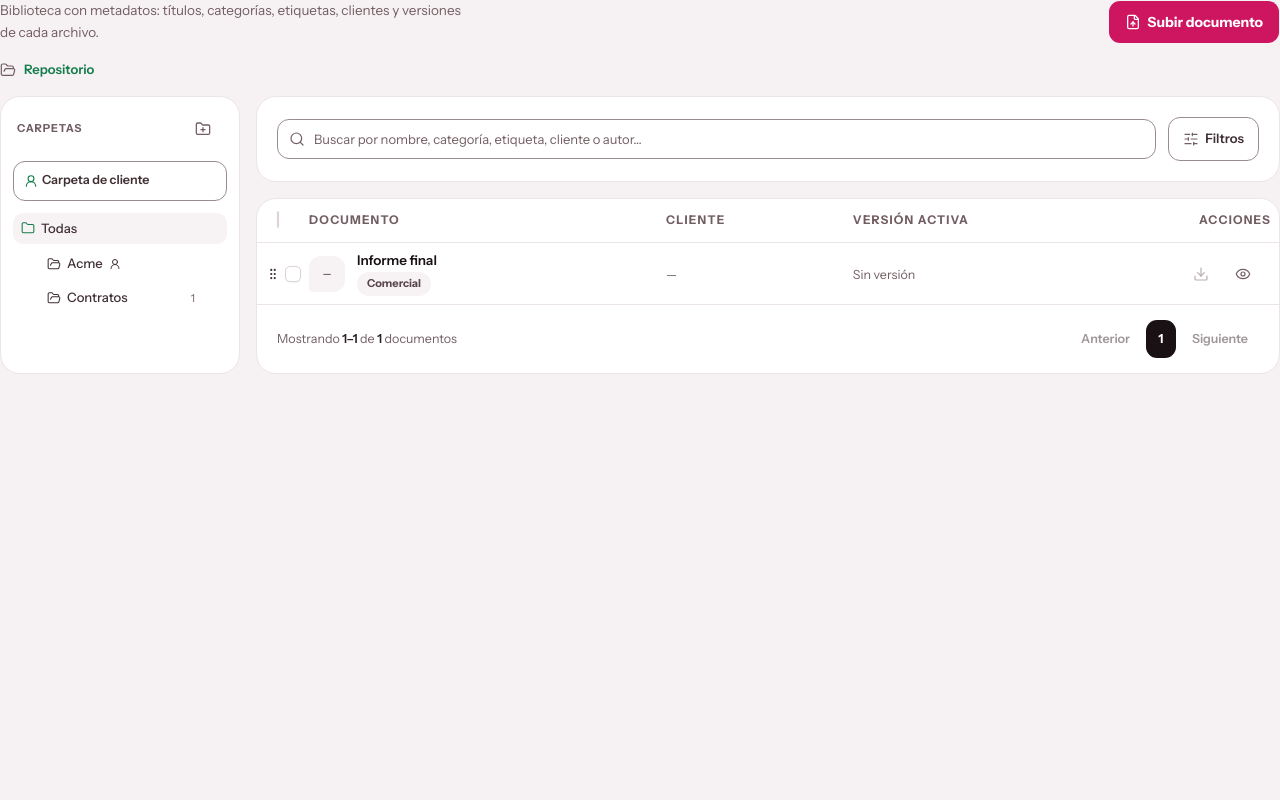
Scenario: RepositoryList — folders, client folders and drag and drop (S3–S5) › «Carpeta de cliente» finds or creates the client's folder and opens it
Click the button "Carpeta de cliente".
click(120, 180)  # box [13, 160, 227, 200]
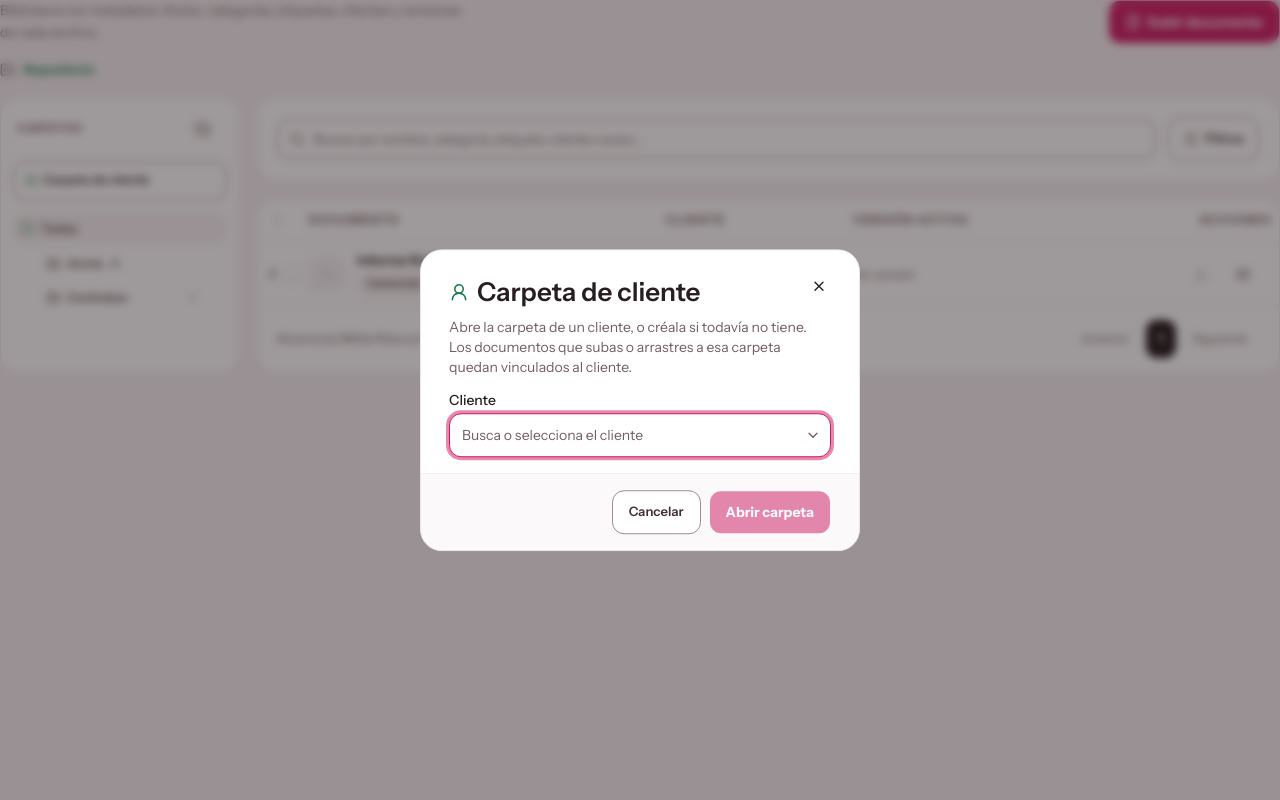
Click the dropdown labelled "Cliente".
click(640, 435)  # box [449, 413, 831, 457]
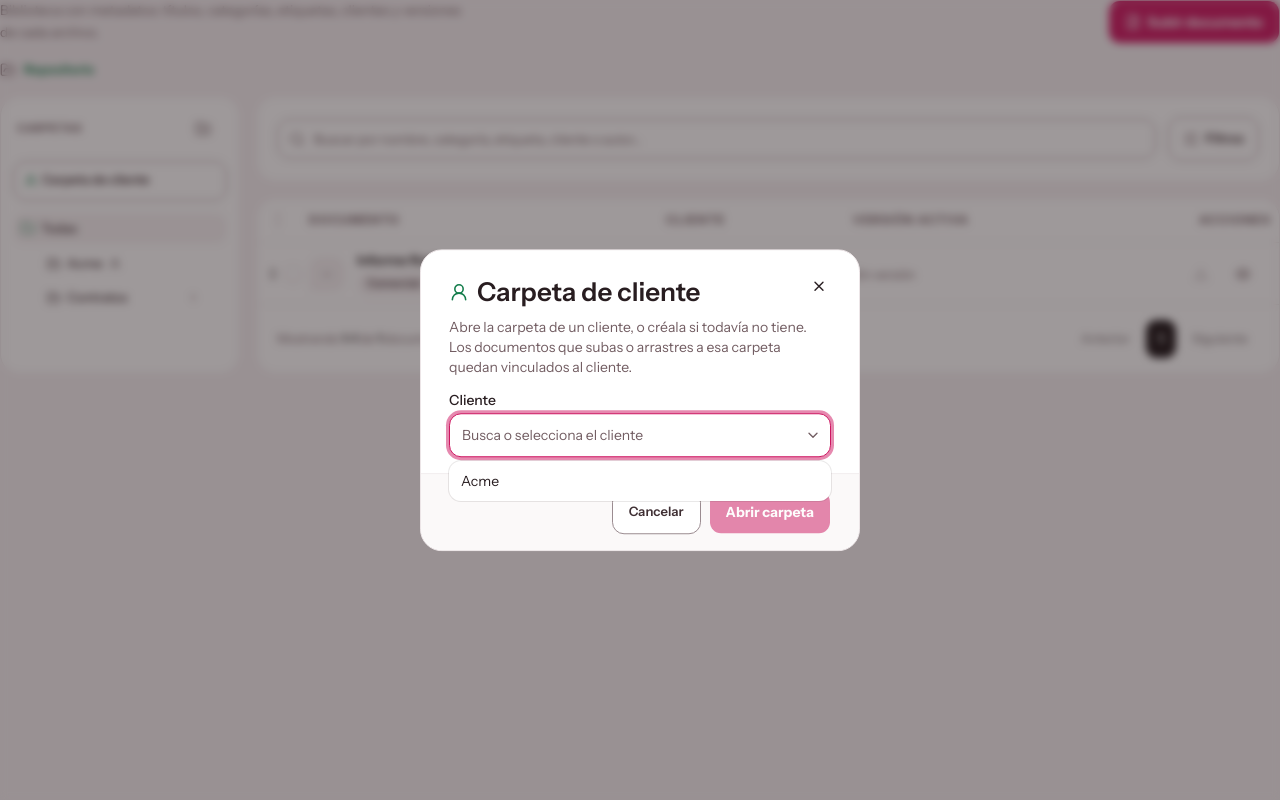
Click the option "Acme".
click(480, 481)  # box [461, 472, 499, 490]
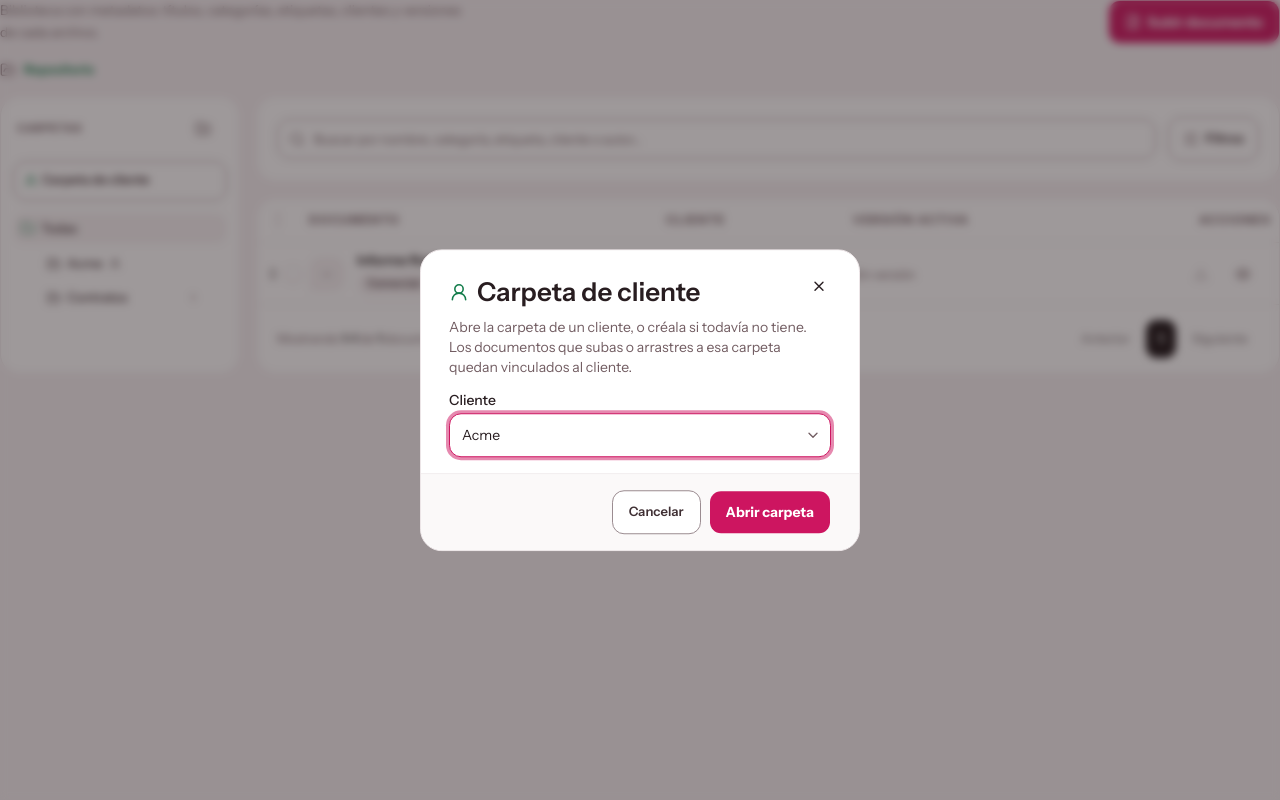
Click the button "Abrir carpeta".
click(770, 512)  # box [709, 490, 831, 534]
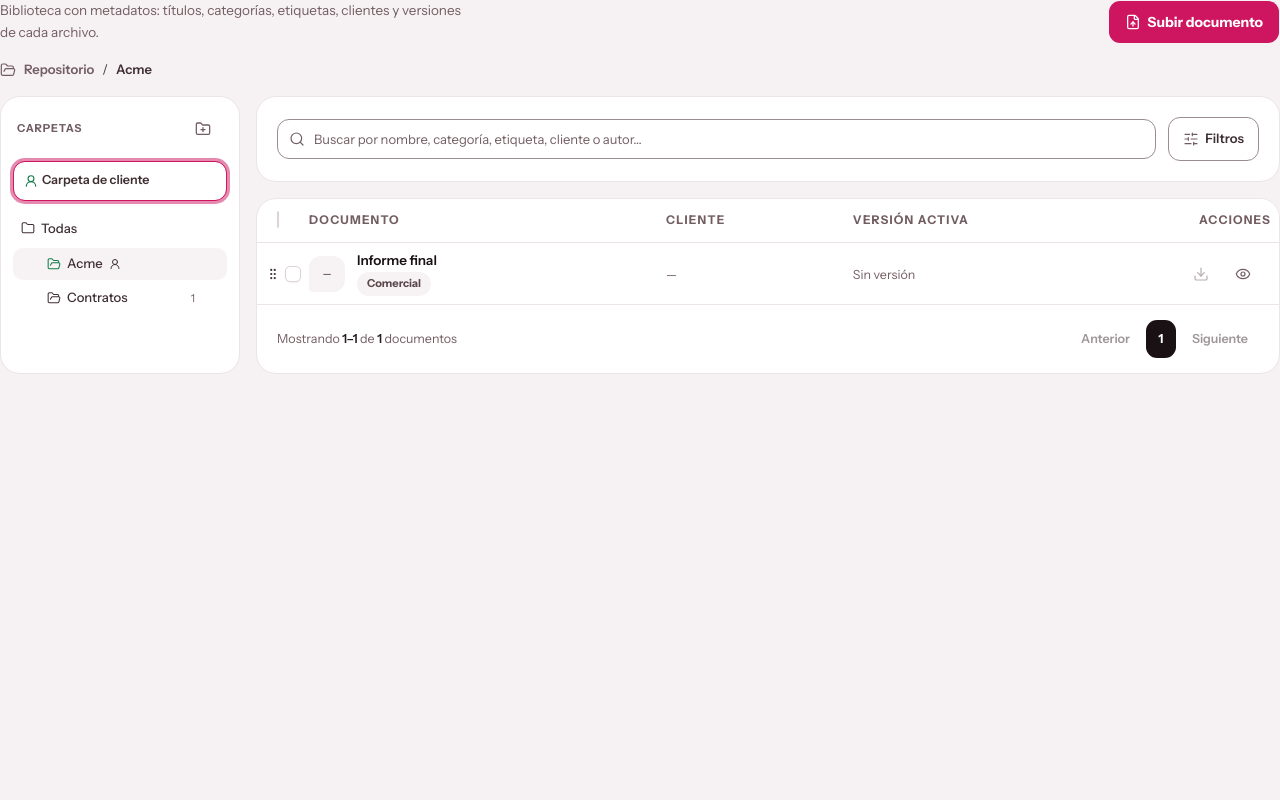
Expected: the dialog is gone
